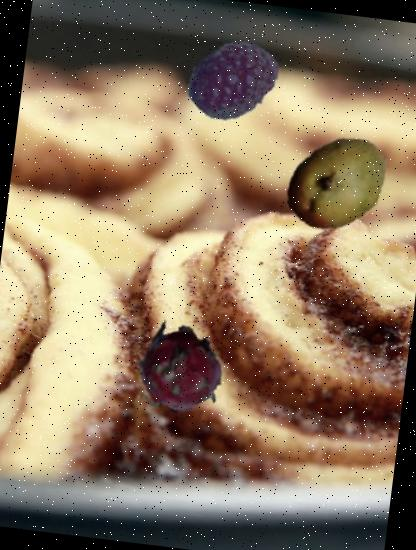Papaya: (278, 124, 398, 244)
Pitahaya: (129, 323, 232, 426)
Raspberry: (182, 28, 286, 133)
